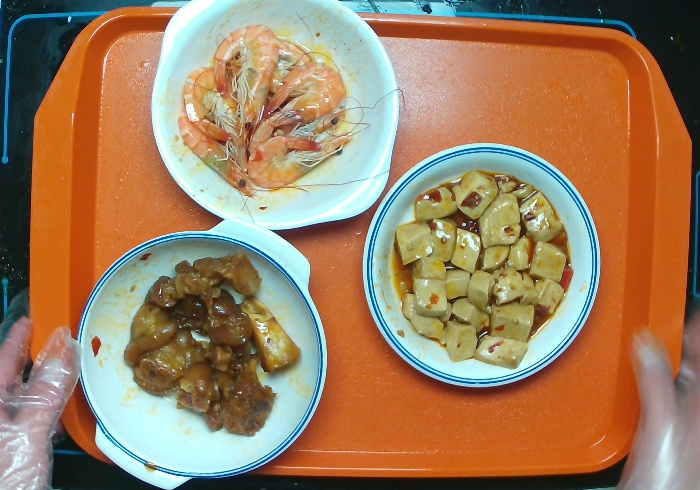HZYJPL-Dai_Er_Bai_Yuan_Wan: (147, 1, 398, 231)
HZYJPL-Lan_Bian_Dai_Er_Wan: (74, 217, 329, 490)
HZYJPL-Lan_Bian_Yuan_Die: (361, 141, 601, 392)
